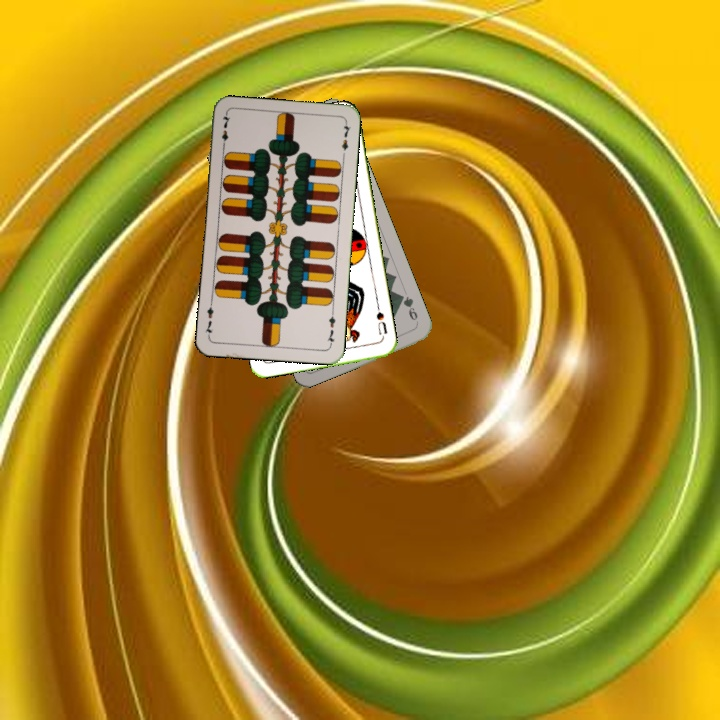E7: (323, 307, 338, 348), (218, 111, 233, 151)
G9: (395, 290, 421, 327)
SU: (372, 301, 390, 341)
